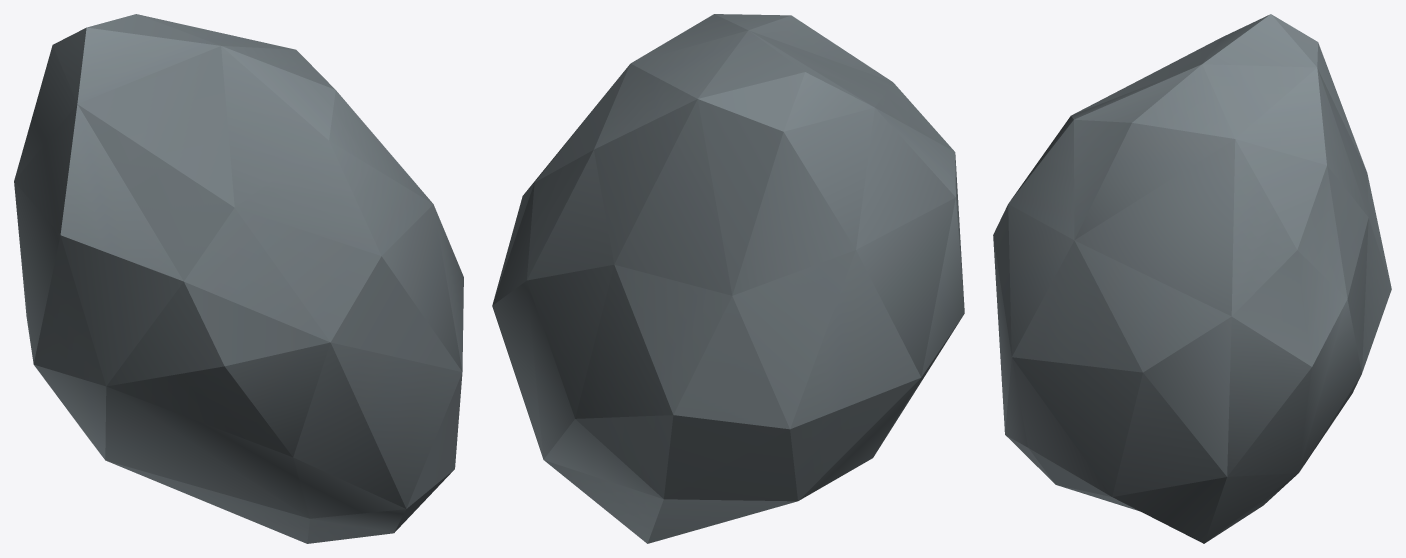
The model's file is kf_rock_3_b.fbx.
3 renders of one model, left to right at view 1: azimuth 30°, elevation 25°; view 2: azimuth 150°, elevation 25°; view 3: azimuth 270°, elevation 25°, orthographic. The views are drawn at different scales.
Parts seen in each view (by area): view 1: kf_rock_3_b; view 2: kf_rock_3_b; view 3: kf_rock_3_b.
Part boxes in pixels (<box>): kf_rock_3_b: <box>14,14,463,543</box>; kf_rock_3_b: <box>492,14,964,543</box>; kf_rock_3_b: <box>993,14,1391,543</box>.
Bounding box in the file's own units: 1.97 × 2.47 × 2.03.
